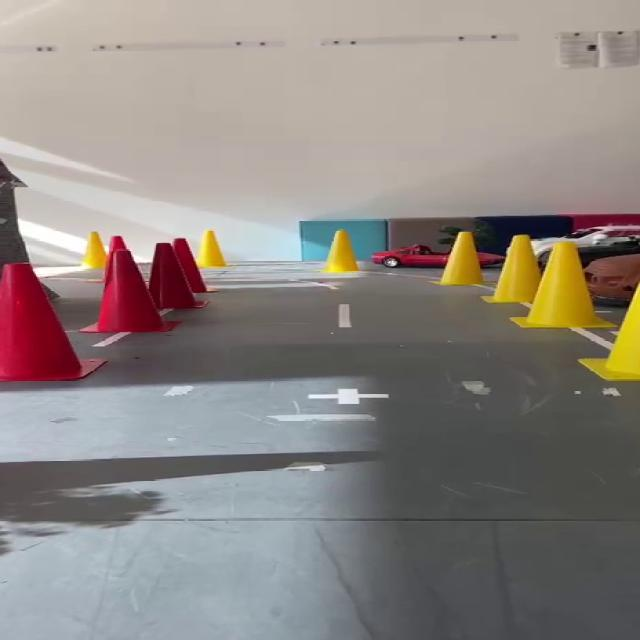Cone-red: (0, 263, 106, 381), (80, 236, 172, 333), (149, 238, 207, 308)
Cones-yellow: (513, 242, 612, 328), (579, 285, 639, 380), (488, 235, 539, 303), (441, 232, 483, 285), (319, 230, 359, 273), (199, 229, 225, 266), (81, 232, 105, 268)
